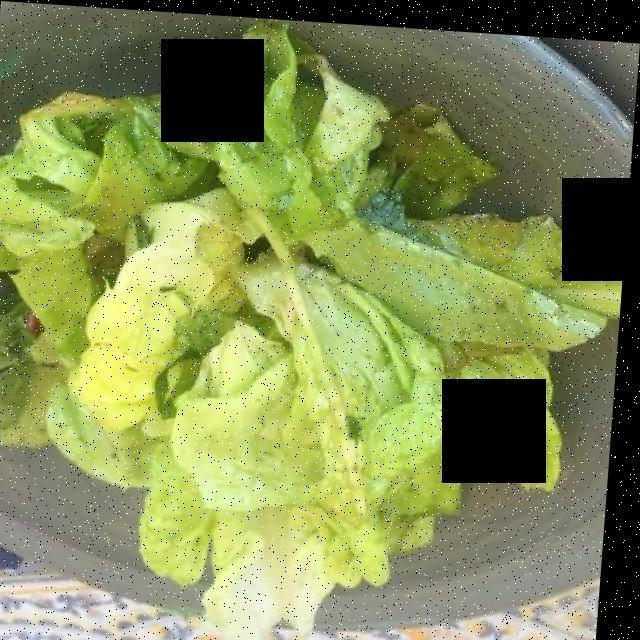salad: (0, 62, 596, 631)
